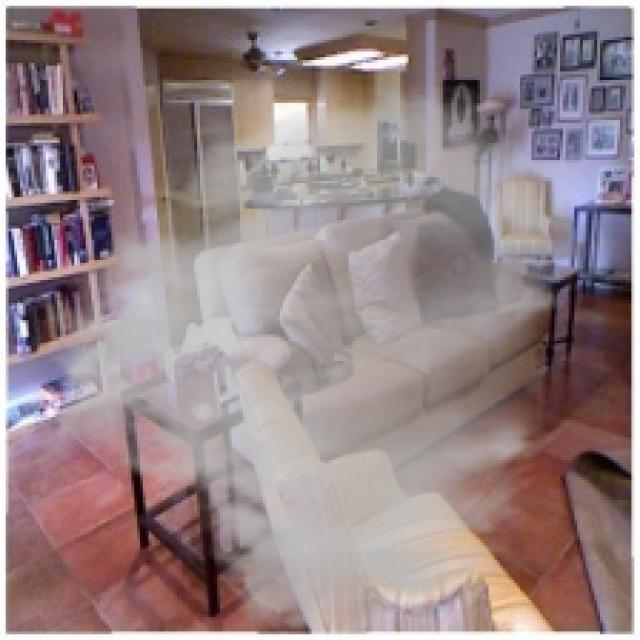Smoke: (26, 80, 588, 637)
